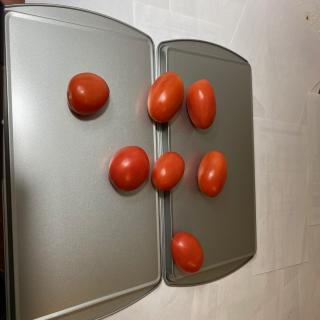Tomato: (108, 146, 150, 192), (147, 71, 184, 123), (66, 72, 110, 115), (186, 79, 216, 129), (198, 150, 228, 197), (170, 232, 203, 274), (151, 151, 185, 191)
